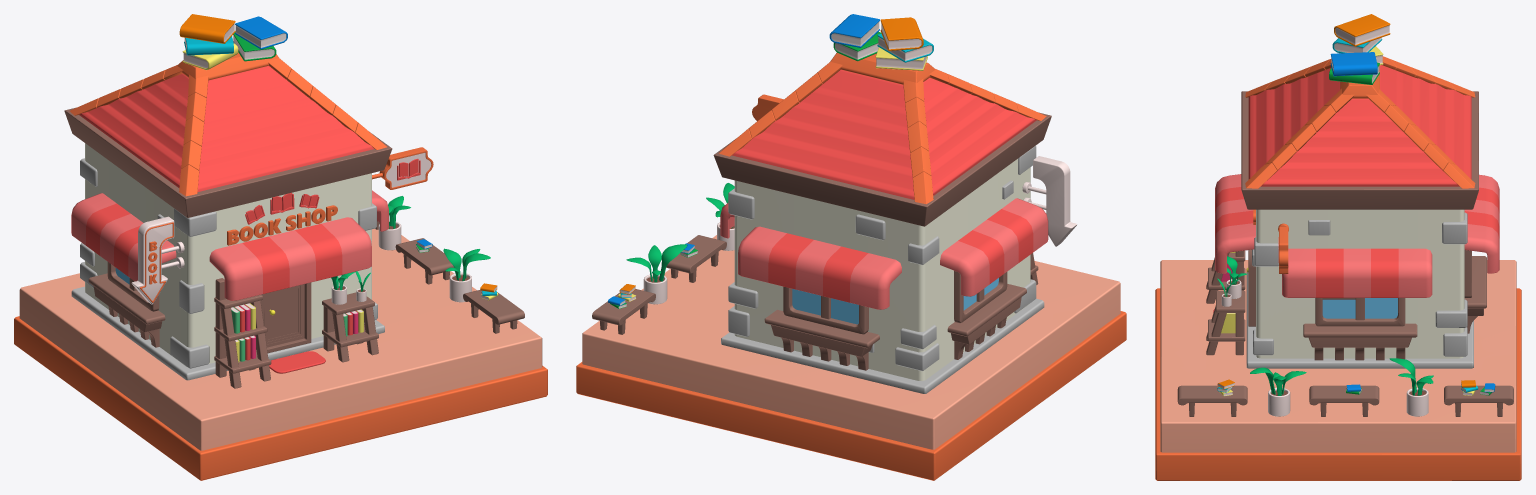
File: Store_Island_7.glb
3 renders of one model, left to right at view 1: azimuth 30°, elevation 25°; view 2: azimuth 150°, elevation 25°; view 3: azimuth 270°, elevation 25°, orthographic. The views are drawn at different scales.
Parts seen in each view (by area): view 1: Store_7_Book_Shop_1, Store_7_Base_1, Store_7_Shelf_1, Store_7_Book_Shop_Sign_2, Store_7_Books_1, Store_7_Shelf_2, Store_7_Books_2, Store_7_Book_Shop_Sign_1, Store_7_Bench_1, Store_7_Bench_2, Store_7_Plant_3, Store_7_Plant_4 (+1 smaller); view 2: Store_7_Book_Shop_1, Store_7_Base_1, Store_7_Book_Shop_Sign_2, Store_7_Books_1, Store_7_Books_2, Store_7_Plant_4, Store_7_Bench_2, Store_7_Bench_3; view 3: Store_7_Book_Shop_1, Store_7_Base_1, Store_7_Books_1, Store_7_Shelf_2, Store_7_Books_2, Store_7_Bench_2, Store_7_Bench_1, Store_7_Bench_3, Store_7_Plant_3, Store_7_Plant_4, Store_7_Shelf_1, Store_7_Book_Shop_Sign_1 (+1 smaller).
Part boxes in pixels (x1,y1,x2,y2): Store_7_Book_Shop_1: (64,52,392,380); Store_7_Base_1: (14,228,547,480); Store_7_Shelf_1: (214,278,271,388); Store_7_Book_Shop_Sign_2: (131,216,184,304); Store_7_Books_1: (179,14,238,70); Store_7_Shelf_2: (322,292,378,362); Store_7_Books_2: (233,16,287,61); Store_7_Book_Shop_Sign_1: (372,147,433,189); Store_7_Bench_1: (463,290,524,333); Store_7_Bench_2: (395,238,454,284); Store_7_Plant_3: (443,248,490,302); Store_7_Plant_4: (378,196,410,250); Store_7_Book_Shop_1: (713,53,1051,393); Store_7_Base_1: (576,235,1126,480); Store_7_Book_Shop_Sign_2: (1022,156,1076,246); Store_7_Books_1: (875,17,933,70); Store_7_Books_2: (829,14,881,61); Store_7_Plant_4: (626,244,687,304); Store_7_Bench_2: (666,235,726,282); Store_7_Bench_3: (592,289,655,334); Store_7_Book_Shop_1: (1215,56,1499,368); Store_7_Base_1: (1155,260,1521,480); Store_7_Books_1: (1332,14,1390,65); Store_7_Shelf_2: (1206,290,1245,355); Store_7_Books_2: (1329,52,1379,84); Store_7_Bench_2: (1309,385,1379,416); Store_7_Bench_1: (1177,385,1247,416); Store_7_Bench_3: (1444,385,1513,416); Store_7_Plant_3: (1250,367,1306,416); Store_7_Plant_4: (1389,358,1433,416); Store_7_Shelf_1: (1206,250,1245,303); Store_7_Book_Shop_Sign_1: (1278,223,1288,273).
Size of the model in its own units: 10.24 by 9.7 by 9.32.
Materials: 32 (32 with a texture image).
